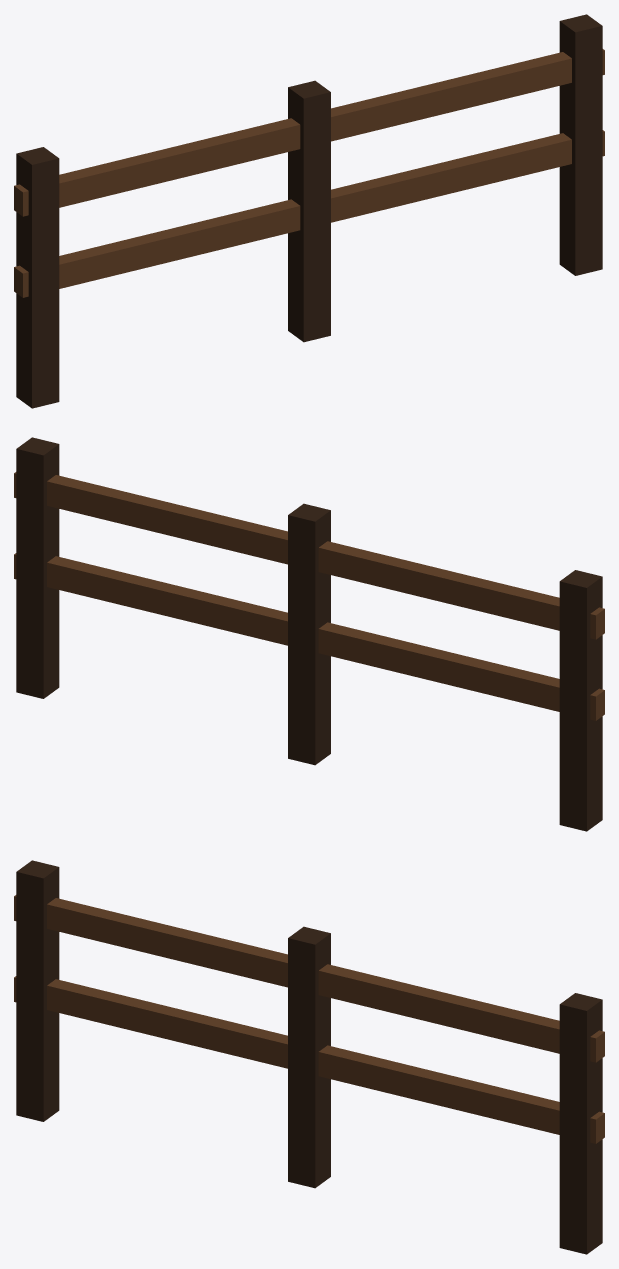
File: fence.glb
3 renders of one model, top to bottom at view 1: azimuth 30°, elevation 25°; view 2: azimuth 150°, elevation 25°; view 3: azimuth 330°, elevation 25°, orthographic.
Visible parts, largest first — view 1: fence; view 2: fence; view 3: fence.
Part boxes in pixels (x1=…): fence: x1=14, y1=14, x2=604, y2=408; fence: x1=14, y1=437, x2=604, y2=831; fence: x1=14, y1=860, x2=604, y2=1254.
Size of the model in its own units: 3 by 1.2 by 0.14.
